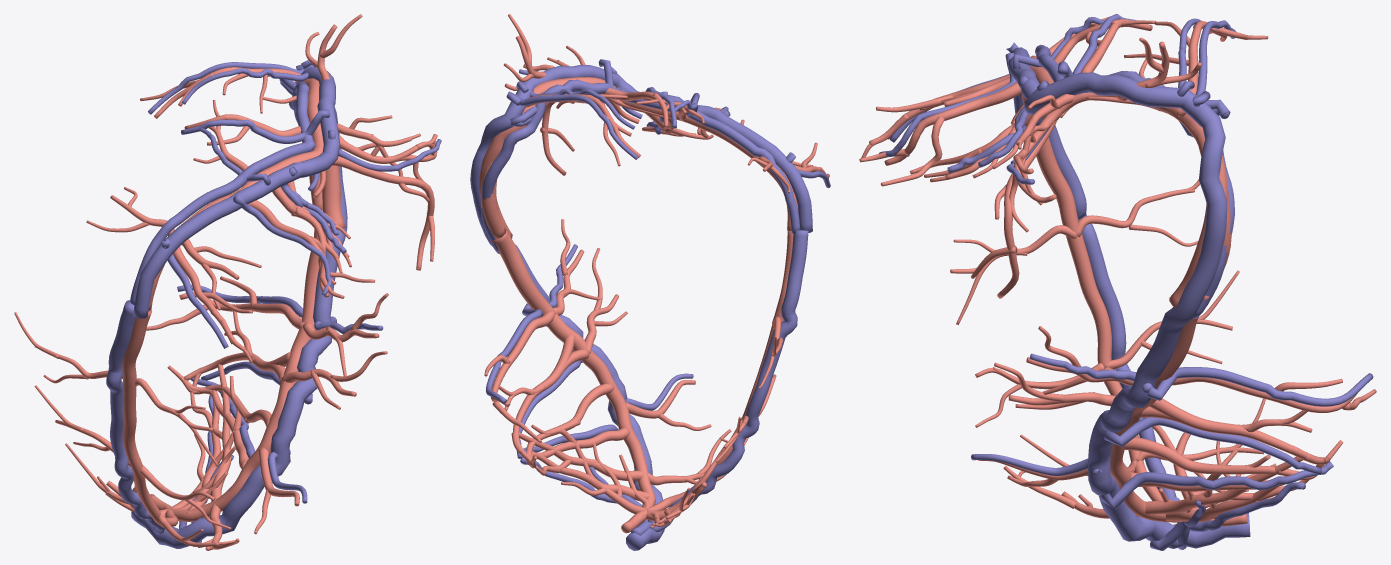
Rendered from vessels_29.glb.
3 renders of one model, left to right at view 1: azimuth 30°, elevation 25°; view 2: azimuth 150°, elevation 25°; view 3: azimuth 270°, elevation 25°, orthographic. The views are drawn at different scales.
Parts seen in each view (by area): view 1: Renderer Node; view 2: Renderer Node; view 3: Renderer Node.
Boxes of the visible parts, <box> form: Renderer Node: <box>14,14,441,550</box>; Renderer Node: <box>470,14,830,550</box>; Renderer Node: <box>859,14,1376,550</box>.
Bounding box in the file's own units: 87.59 × 118 × 90.46.
